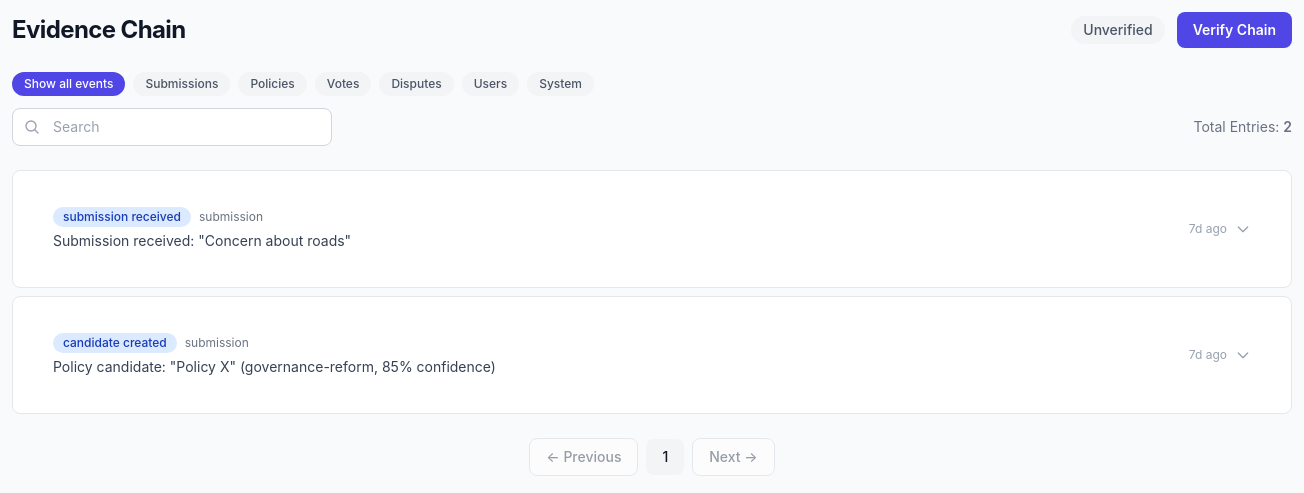
Scenario: EvidencePage › shows all entries when search is cleared
Expected: the text "Submission received: \"Concern about roads\"" is shown, [53,232,351,249]
Type "entity-aaa" into the field labelled "Search". click: (172, 127)
box: [12,108,332,146]
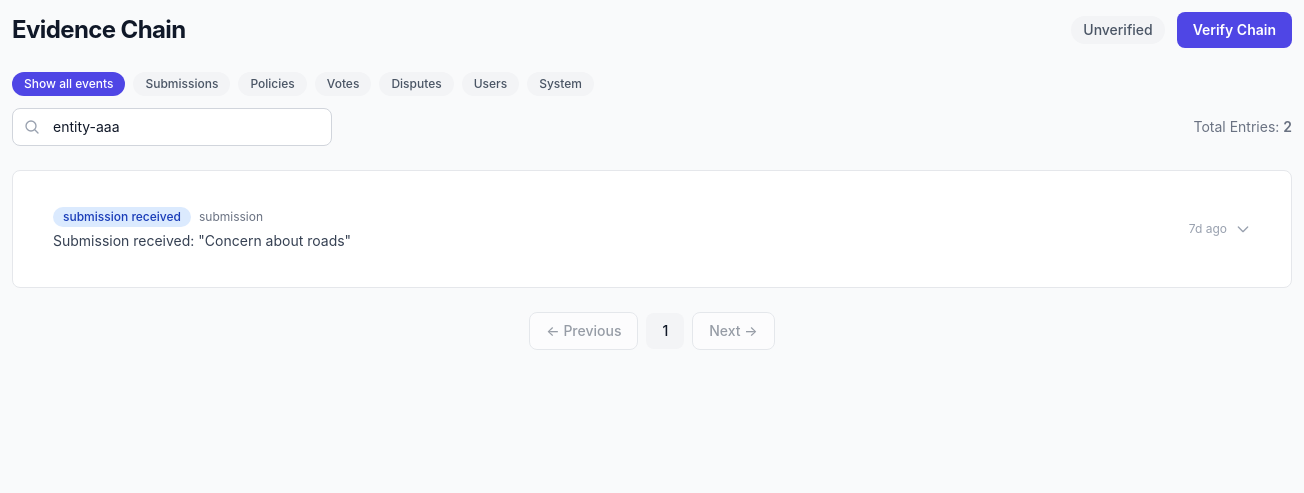
Result: the button "Policy X" is gone
Clear the field named "Search". click: (172, 127)
box: [12,108,332,146]
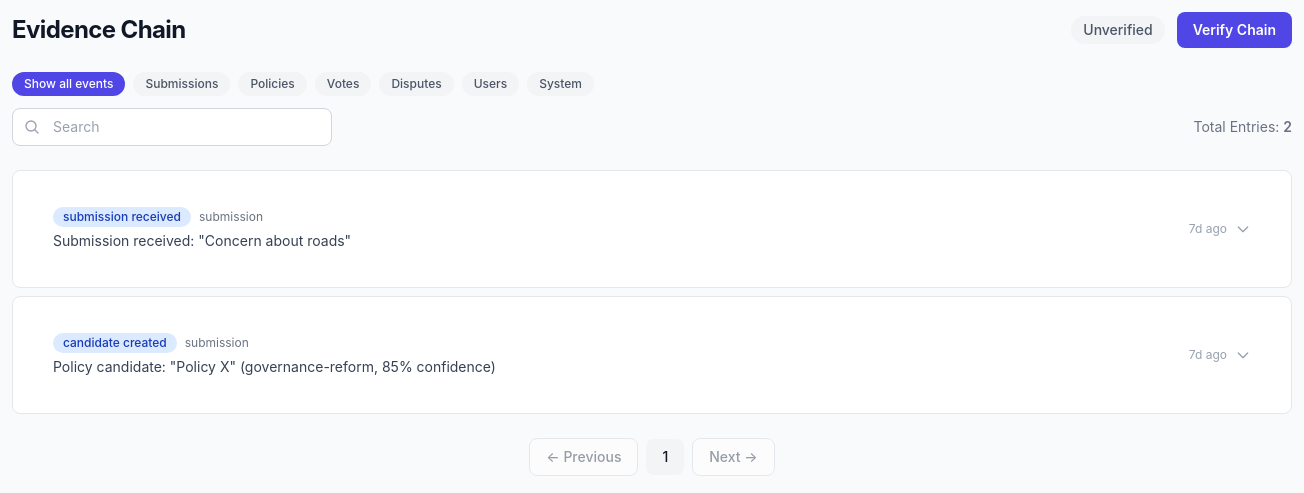
Expected: the text "Submission received: \"Concern about roads\"" is shown, [53,232,351,249]
Result: the text "Policy X" is shown at [53,358,496,375]
